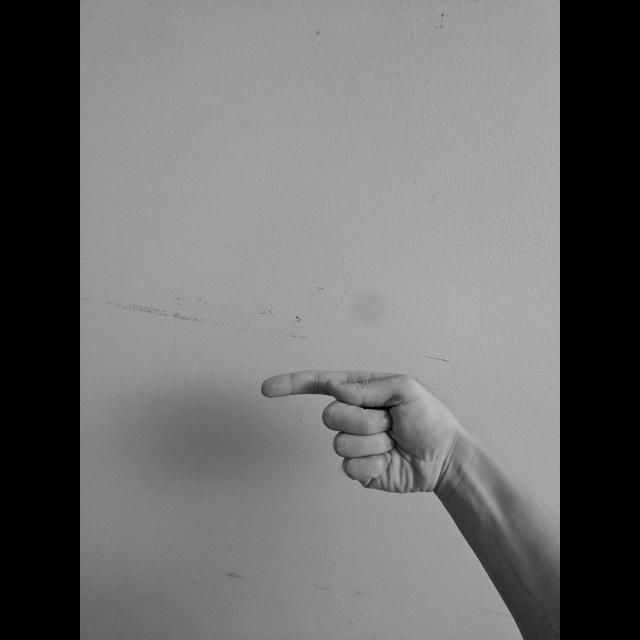G: (255, 366, 455, 498)
